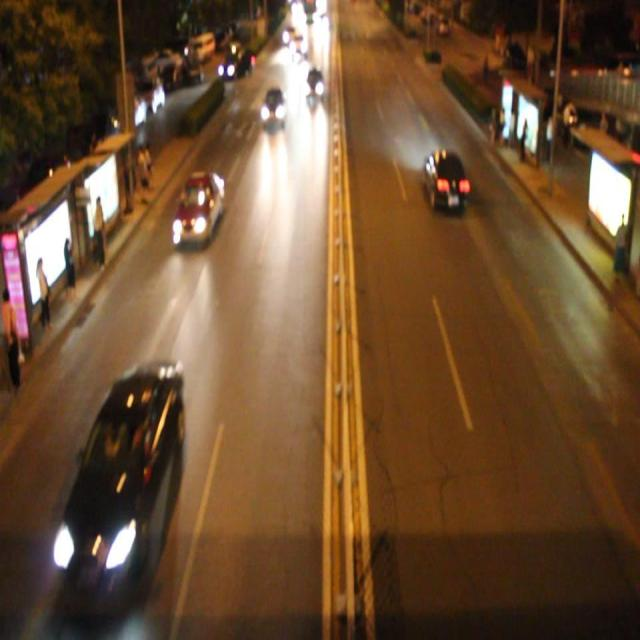car: (52, 361, 184, 594), (174, 171, 225, 246), (421, 150, 469, 213), (259, 85, 287, 126), (303, 68, 323, 100)
